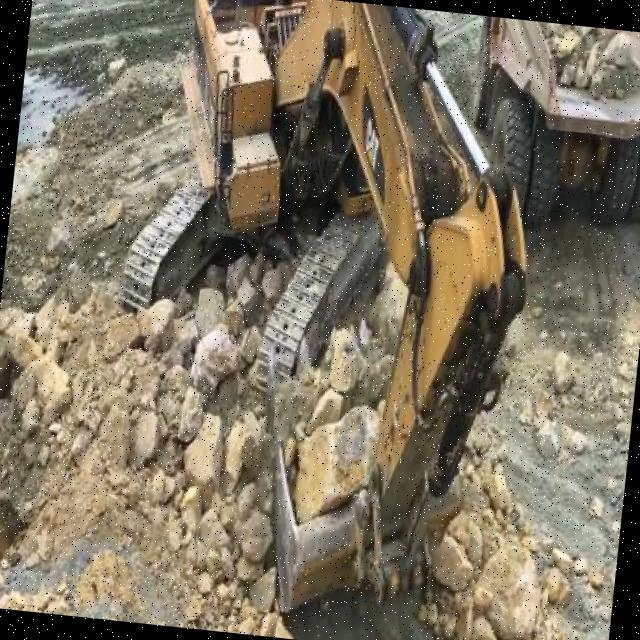Dump Truck: (439, 13, 640, 238)
Excavator: (83, 0, 552, 640)
